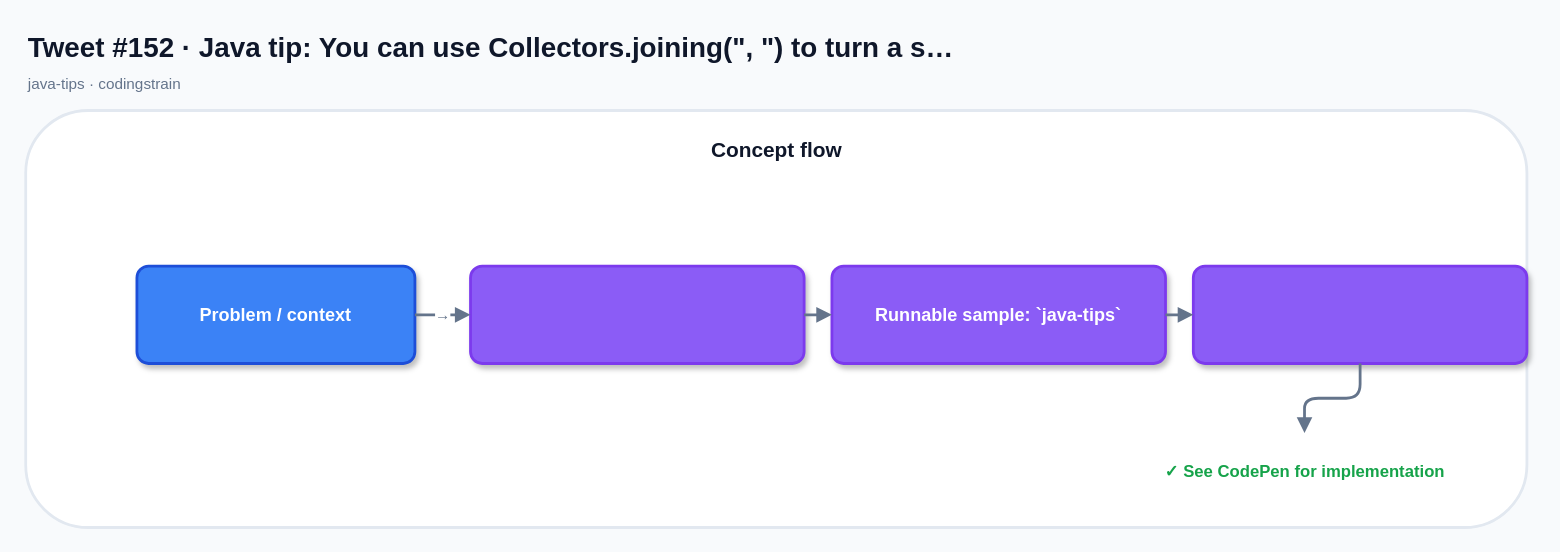
This 1560x552 diagram has some shape labels left out. Here are the shapes that lost their labels. From the top down, the centre of each, then its label:
point (638, 316): 💡 Java tip: You can use Collectors.joining(", ") to turn a stream into
point (1361, 316): Architecture diagram + Carbon CodePen below
